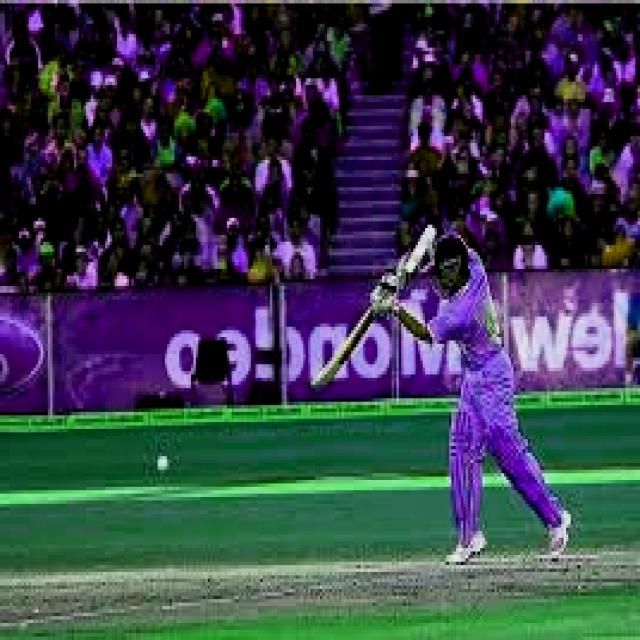toe: (306, 364, 335, 395)
